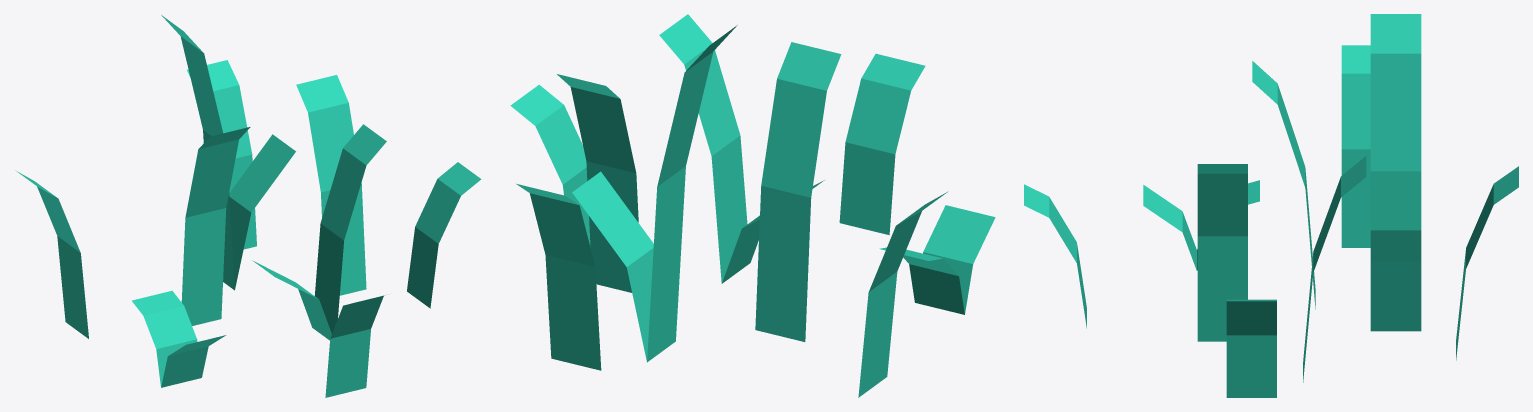
Rendered from grass.obj.
3 views of the same model, side by side, from view 1: azimuth 30°, elevation 25°; view 2: azimuth 150°, elevation 25°; view 3: azimuth 270°, elevation 25° (orthographic). The views are drawn at different scales.
Visible parts, largest first — view 1: grass; view 2: grass; view 3: grass.
Boxes of the visible parts, x1,y1,x2,y2 form: grass: (15, 15, 481, 397); grass: (510, 14, 995, 397); grass: (1024, 14, 1518, 397).
Bounding box in the file's own units: 0.3811 × 0.254 × 0.3922.
